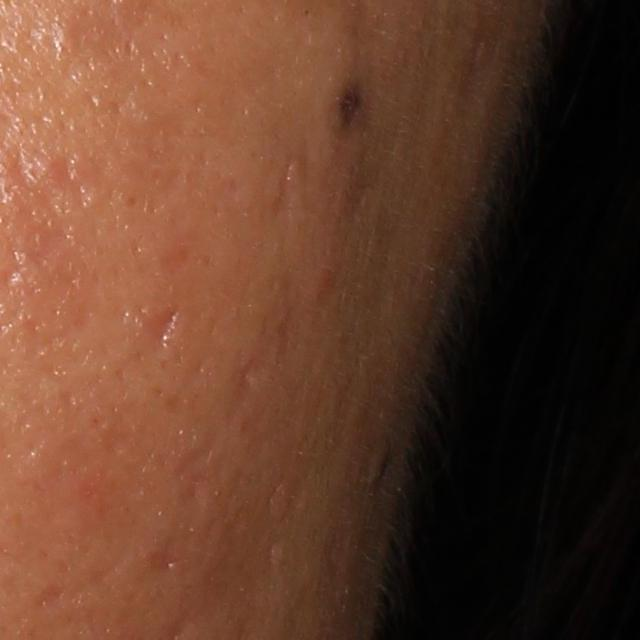atrophic_scar: (146, 304, 183, 350), (273, 151, 298, 215), (30, 583, 68, 612), (232, 359, 264, 392)
comedo: (45, 8, 87, 68)
nevus: (337, 79, 370, 134)
